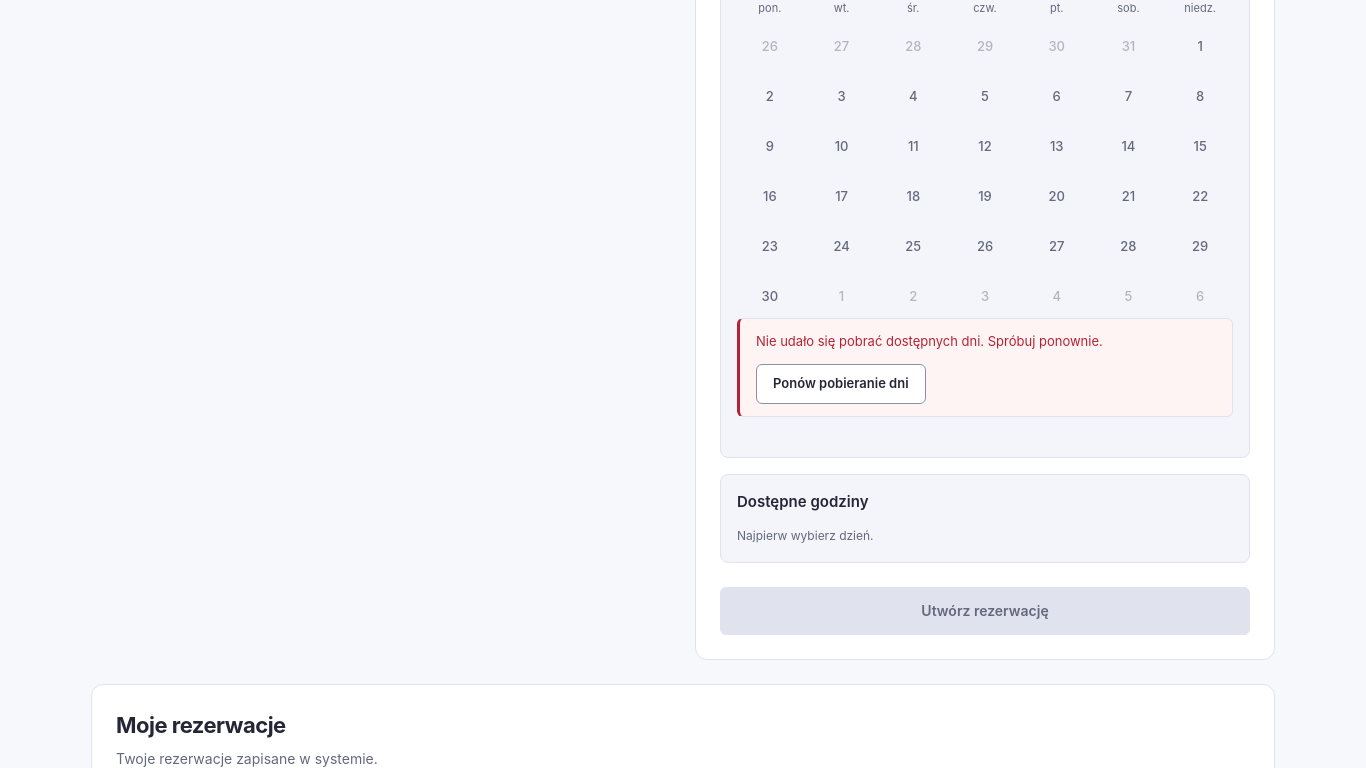
Test: availability recovery › shows a retry for partial http month failures instead of treating failed days as unavailable
(page scrolled)
Expected: the text "Nie udało się pobrać dostępnych dni. Spróbuj ponownie." is shown, [756, 333, 1103, 349]
Expected: the text "Brak wolnych dni w tym miesiącu." is not shown
Click the button "Ponów pobieranie dni": x=841, y=384 [756, 364, 926, 404]
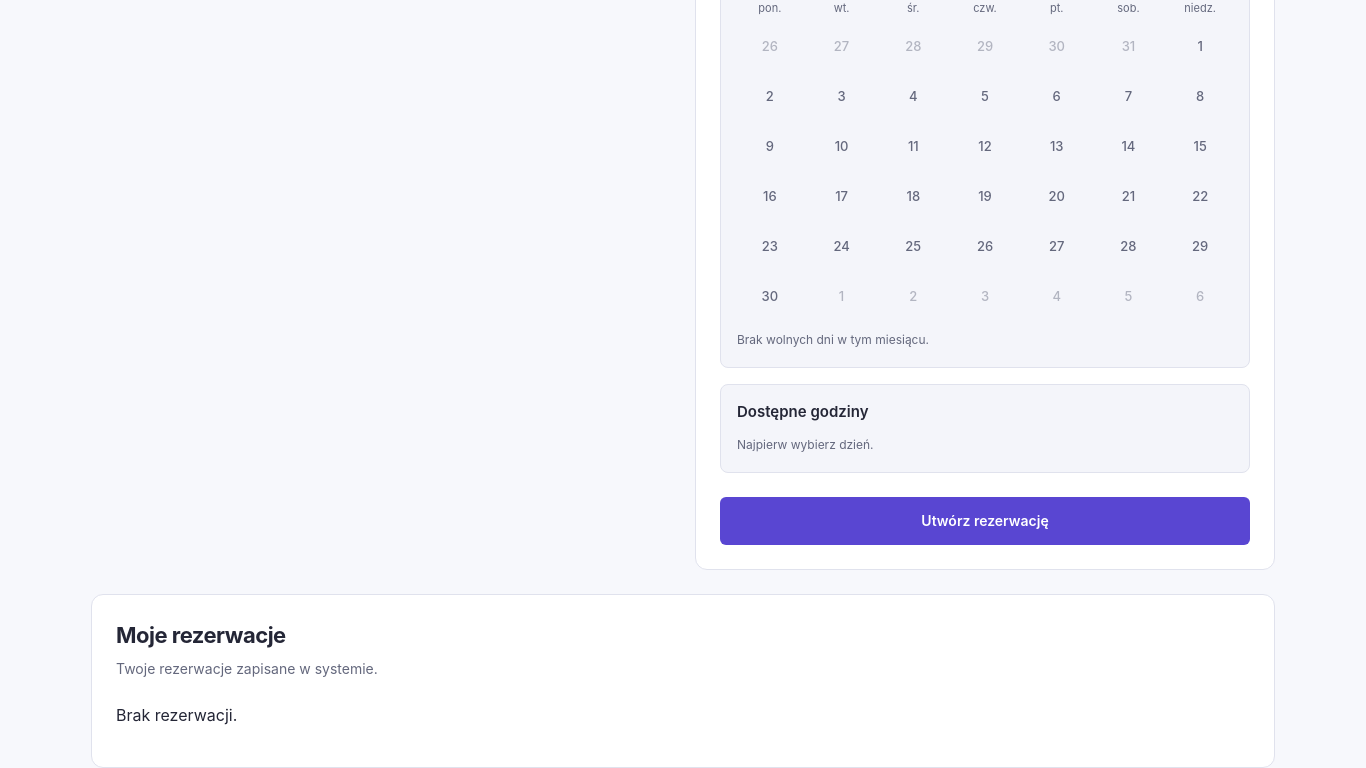
Result: the text "Brak wolnych dni w tym miesiącu." is shown at [737, 332, 929, 347]
Result: the button "Ponów pobieranie dni" is gone
